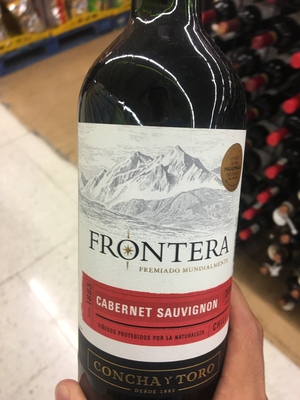frontera cabernet sauvignon: (61, 4, 294, 395)
